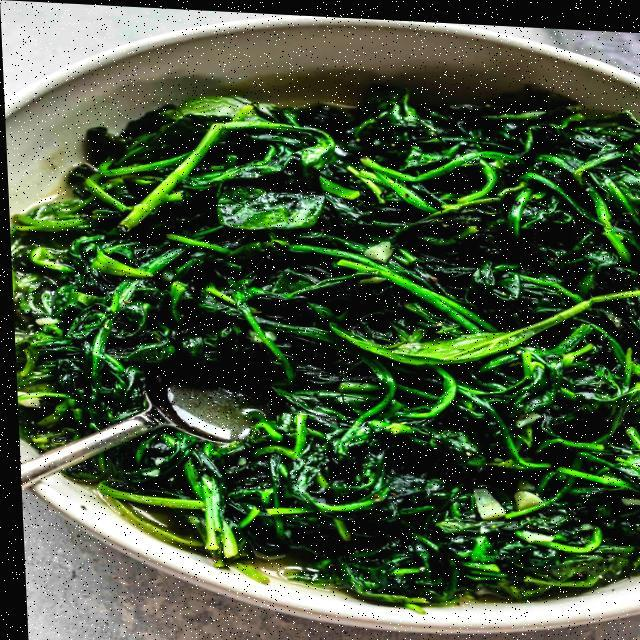Spinach: (2, 66, 640, 614)
